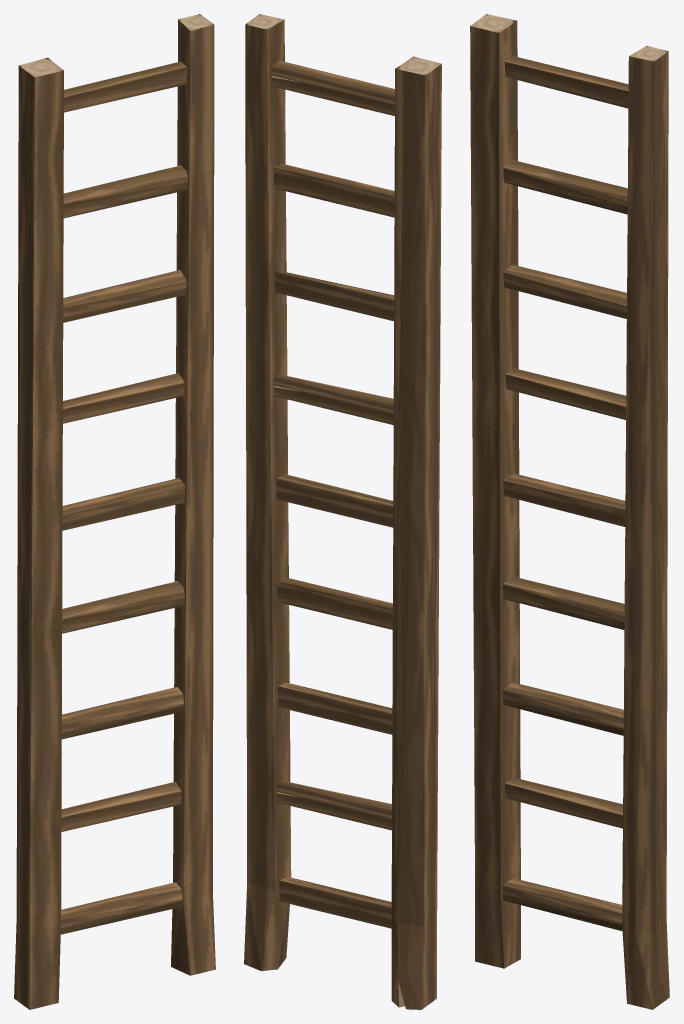
File: Ladder.fbx
3 views of the same model, side by side, from view 1: azimuth 30°, elevation 25°; view 2: azimuth 150°, elevation 25°; view 3: azimuth 330°, elevation 25° (orthographic).
Parts seen in each view (by area): view 1: Mesh_0220; view 2: Mesh_0220; view 3: Mesh_0220.
Boxes of the visible parts, <box> form: Mesh_0220: <box>14,14,215,1009</box>; Mesh_0220: <box>244,14,441,1009</box>; Mesh_0220: <box>470,14,669,1009</box>.
Bounding box in the file's own units: 0.915 × 0.2174 × 4.54.
1 material, 1 textured.
